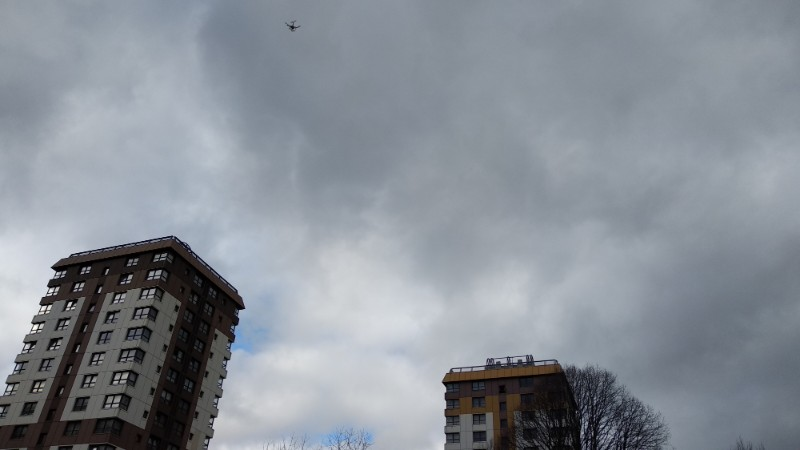drone: (283, 19, 301, 31)
